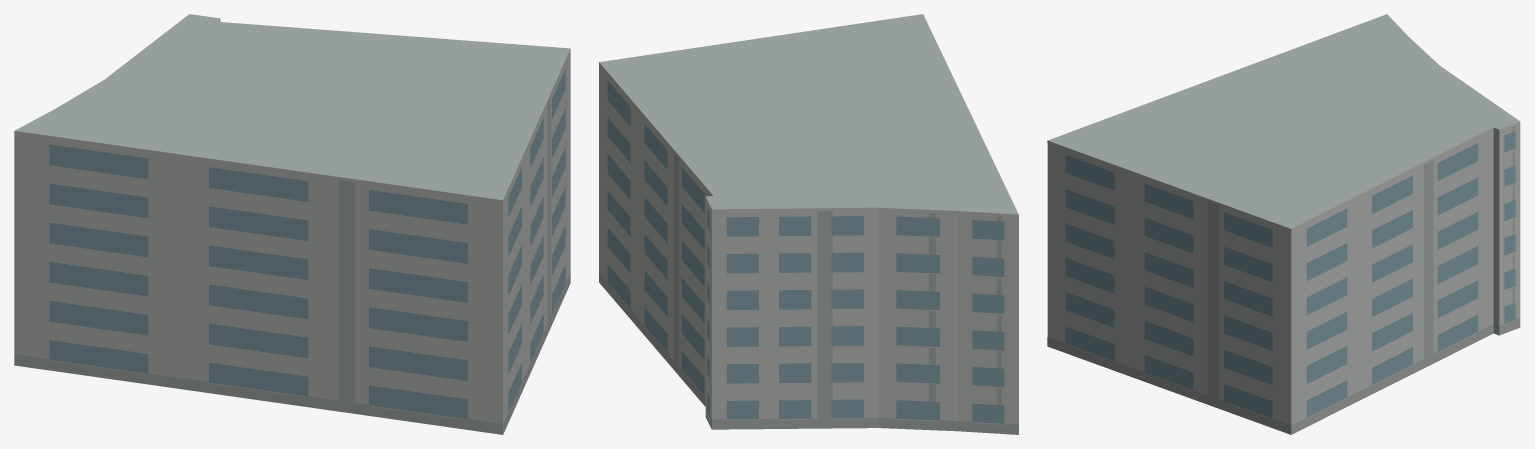
The model's file is survey-upis-32498550.glb.
3 views of the same model, side by side, from view 1: azimuth 30°, elevation 25°; view 2: azimuth 150°, elevation 25°; view 3: azimuth 270°, elevation 25° (orthographic). The views are drawn at different scales.
Visible parts, largest first — view 1: survey-upis-32498550.tmp; view 2: survey-upis-32498550.tmp; view 3: survey-upis-32498550.tmp.
Part boxes in pixels (x1,y1,x2,y2): survey-upis-32498550.tmp: (14, 14, 570, 434); survey-upis-32498550.tmp: (599, 14, 1018, 434); survey-upis-32498550.tmp: (1047, 14, 1520, 434).
Bounding box in the file's own units: 40.96 × 18.3 × 38.08.
